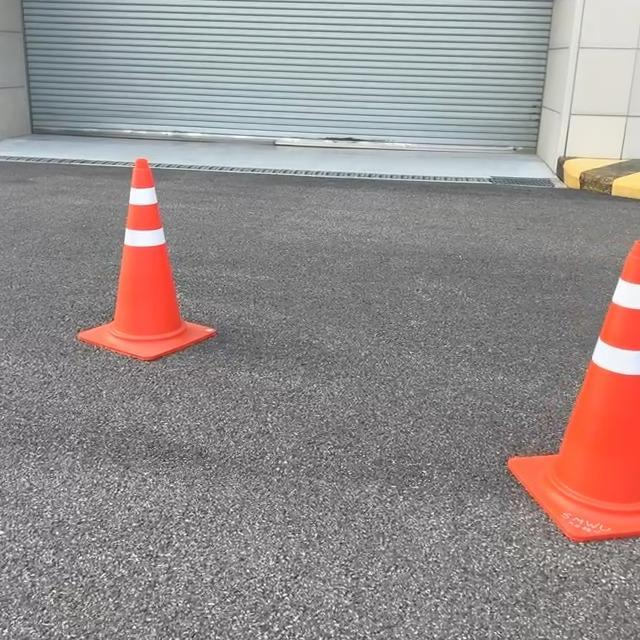fallen_object: (470, 107, 640, 528), (52, 127, 237, 397)
